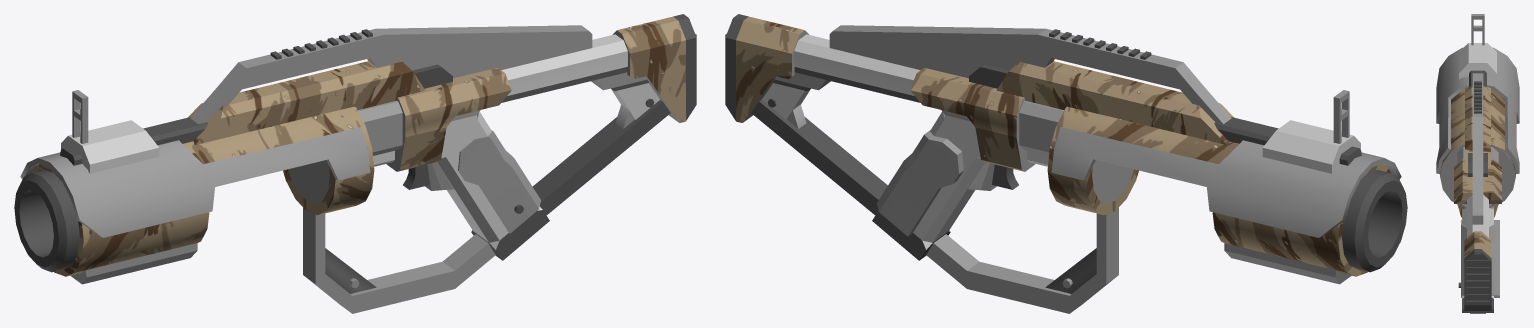
The model's file is SM_GrenadeLauncher.fbx.
The picture shows the model from 3 angles, left to right: view 1: azimuth 30°, elevation 25°; view 2: azimuth 150°, elevation 25°; view 3: azimuth 270°, elevation 25°; orthographic projection. The views are drawn at different scales.
Visible parts, largest first — view 1: SM_GrenadeLauncher, SM_GrenadeLauncher_Trigger; view 2: SM_GrenadeLauncher, SM_GrenadeLauncher_Trigger; view 3: SM_GrenadeLauncher.
Part boxes in pixels (box(x1,y1,x2,y2)): SM_GrenadeLauncher: box(14, 14, 696, 313); SM_GrenadeLauncher_Trigger: box(403, 164, 429, 189); SM_GrenadeLauncher: box(725, 14, 1407, 313); SM_GrenadeLauncher_Trigger: box(992, 164, 1018, 189); SM_GrenadeLauncher: box(1436, 14, 1519, 313).
Bounding box in the file's own units: 69.26 × 28.48 × 11.85.
